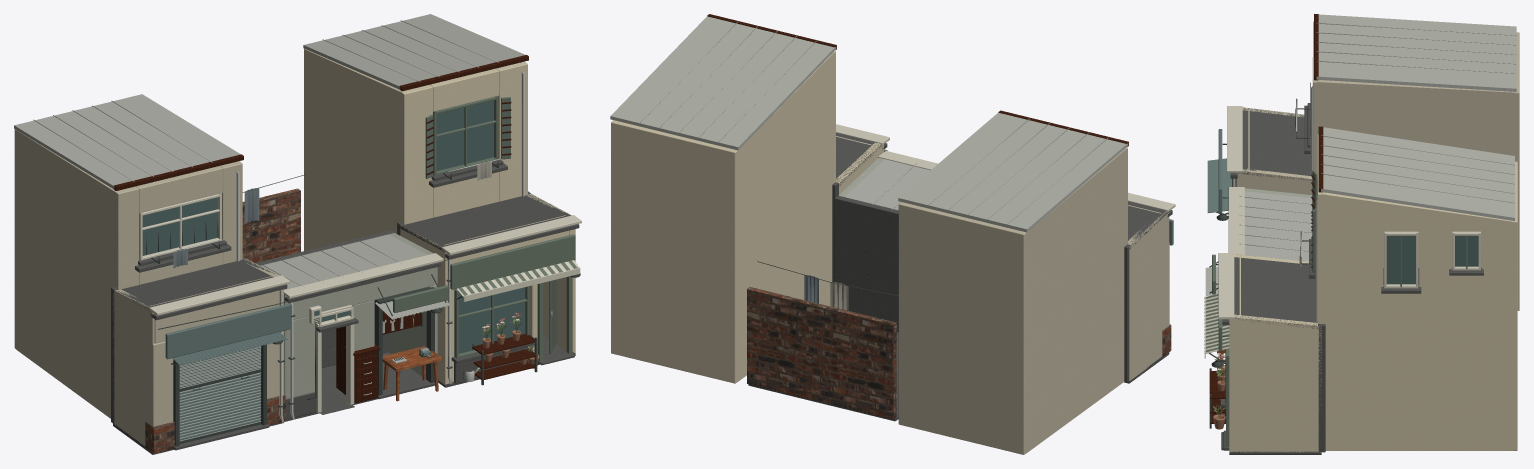
File: architecture.glb
3 views of the same model, side by side, from view 1: azimuth 30°, elevation 25°; view 2: azimuth 150°, elevation 25°; view 3: azimuth 270°, elevation 25° (orthographic).
Visible parts, largest first — view 1: Corner warehouse upper wall, Corner florist upper wall details, Corner florist upper wall, Corner warehouse upper wall details, Corner warehouse upper roof, Corner repair wall details, Corner florist wall details, Corner warehouse wall details, Corner florist upper roof, Corner repair roof, Corner florist roof, Corner repair wall (+13 smaller); view 2: Corner warehouse upper wall, Corner florist upper wall, Corner repair wall, Corner florist upper roof, Corner warehouse upper roof, Corner warehouse wall, Corner repair roof, Corner florist roof, Corner warehouse roof, Corner florist wall, Corner shared fixtures, Corner warehouse wall details (+1 smaller); view 3: Corner florist upper wall, Corner warehouse upper roof, Corner florist wall, Corner florist upper roof, Corner warehouse upper wall, Corner florist roof, Corner florist upper wall details, Corner repair roof, Corner warehouse roof, Corner warehouse wall, Corner warehouse upper wall details, Corner florist canopy (+5 smaller).
Boxes of the visible parts, x1,y1,x2,y2 form: Corner warehouse upper wall: (14, 129, 240, 418); Corner florist upper wall details: (400, 61, 527, 224); Corner florist upper wall: (304, 48, 525, 250); Corner warehouse upper wall details: (114, 161, 242, 289); Corner warehouse upper roof: (14, 94, 243, 190); Corner repair wall details: (285, 268, 448, 419); Corner florist wall details: (444, 215, 580, 384); Corner warehouse wall details: (145, 275, 290, 453); Corner florist upper roof: (303, 14, 528, 91); Corner repair roof: (260, 234, 443, 303); Corner florist roof: (400, 194, 581, 259); Corner repair wall: (242, 188, 437, 394); Corner warehouse upper wall: (898, 149, 1125, 454); Corner florist upper wall: (611, 52, 833, 383); Corner repair wall: (747, 158, 898, 419); Corner florist upper roof: (610, 14, 836, 150); Corner warehouse upper roof: (898, 110, 1128, 232); Corner warehouse wall: (1124, 211, 1169, 382); Corner repair roof: (840, 151, 937, 210); Corner florist roof: (836, 124, 889, 185); Corner warehouse roof: (1128, 192, 1175, 249); Corner florist wall: (832, 142, 883, 282); Corner shared fixtures: (757, 261, 898, 310); Corner warehouse wall details: (1128, 205, 1173, 356); Corner florist upper wall: (1321, 161, 1517, 450); Corner warehouse upper roof: (1314, 14, 1516, 91); Corner florist wall: (1229, 254, 1325, 452); Corner florist upper roof: (1318, 126, 1514, 220); Corner warehouse upper wall: (1317, 32, 1519, 310); Corner florist roof: (1218, 253, 1321, 328); Corner florist upper wall details: (1309, 134, 1483, 323); Corner repair roof: (1228, 187, 1312, 261); Corner warehouse roof: (1227, 106, 1312, 180); Corner warehouse wall: (1237, 107, 1317, 195); Corner warehouse upper wall details: (1304, 21, 1321, 176); Corner florist canopy: (1204, 293, 1229, 364).
Size of the model in its own units: 10.43 by 6.3 by 6.74.
Materials: 24 (7 with a texture image).
